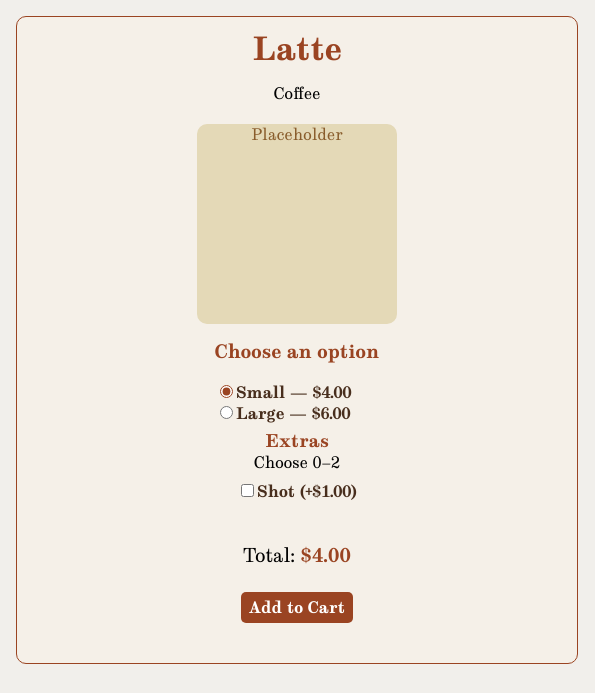
Test: ProductPage › selects variant and updates price
Expected: the heading "Latte" is shown, 252,27 -> 342,69
Click the radio button labelled "Large — $6.00".
click(226, 412)  # box 220,406 -> 233,419
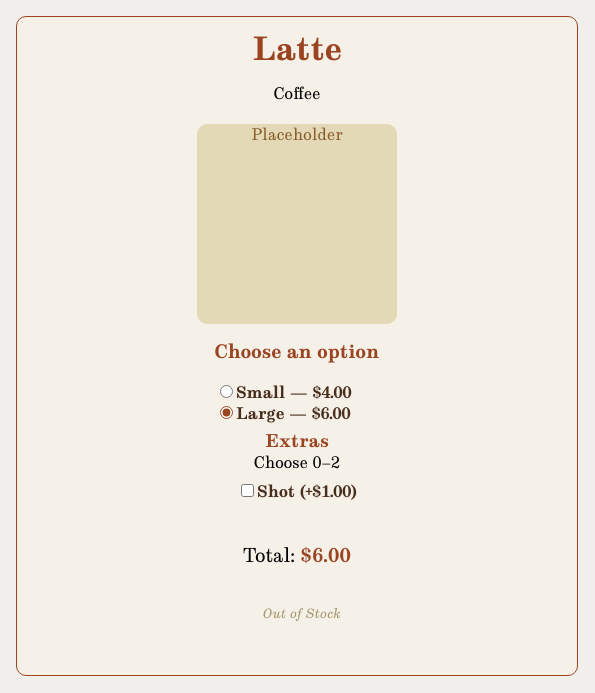
Now the text "$6.00" is shown, box 300,542 -> 352,568
